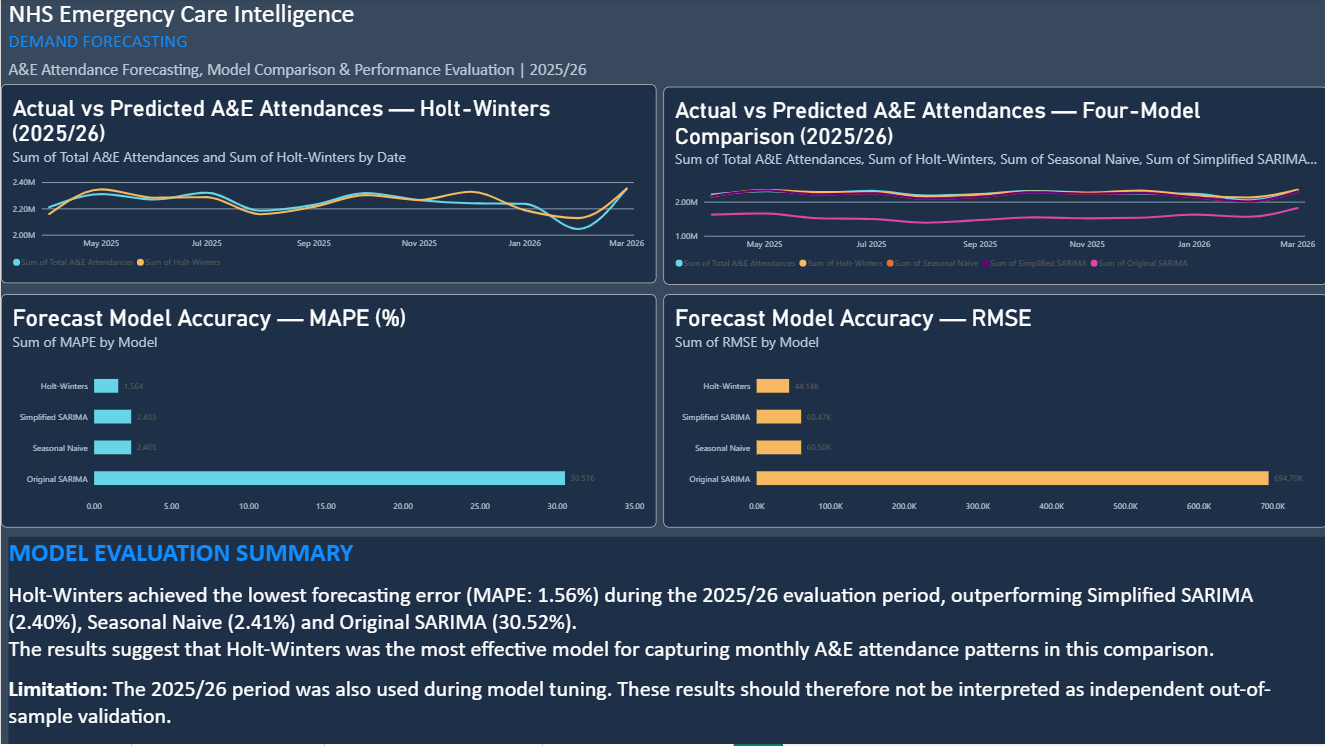

The page's visual inventory and layout, read from the dashboard file:
{"tool":"powerbi","page":{"name":"Demand Forecasting","canvas":[1920,1080],"ordinal":3},"visuals":[{"type":"textbox","box":[10.3,0,580.4,45.3],"z":0},{"type":"textbox","box":[10.3,45.3,489.9,43.2],"z":1},{"type":"textbox","box":[10.9,88.7,872.3,36.2],"z":2},{"type":"lineChart","title":"Actual vs Predicted A&E Attendances — Holt-Winters (2025/26)","fields":{"Category":["Fact_AE_Forecast_Comparison.Date"],"Y":["Sum(Fact_AE_Forecast_Comparison.Total A&E Attendances)","Sum(Fact_AE_Forecast_Comparison.Holt-Winters)"]},"box":[0,125.6,948.9,288.2],"z":3},{"type":"lineChart","title":"Actual vs Predicted A&E Attendances — Four-Model Comparison (2025/26)","fields":{"Category":["Fact_AE_Forecast_Comparison.Date"],"Y":["Sum(Fact_AE_Forecast_Comparison.Total A&E Attendances)","Sum(Fact_AE_Forecast_Comparison.Holt-Winters)","Sum(Fact_AE_Forecast_Comparison.Seasonal Naive)","Sum(Fact_AE_Forecast_Comparison.Simplified SARIMA)","Sum(Fact_AE_Forecast_Comparison.Original SARIMA)"]},"box":[959.2,127.6,961.2,286.1],"z":4},{"type":"clusteredBarChart","title":"Forecast Model Accuracy — MAPE (%)","fields":{"Category":["Fact_Forecast_Evaluation.Model"],"Y":["Sum(Fact_Forecast_Evaluation.MAPE)"]},"box":[0,428.1,948.9,337.6],"z":5},{"type":"clusteredBarChart","title":"Forecast Model Accuracy — RMSE","fields":{"Category":["Fact_Forecast_Evaluation.Model"],"Y":["Sum(Fact_Forecast_Evaluation.RMSE)"]},"box":[959.2,428.1,961.2,337.6],"z":6},{"type":"textbox","box":[10.3,780.1,1910.1,300.5],"z":7}]}

Visuals, with their boxes in screenshot pixels (x1, y1, x2, y2), scaled from the page's 1920x1080 canvas onto the 1325x746 screenshot:
textbox: bbox=(7, 0, 408, 31)
textbox: bbox=(7, 31, 345, 61)
textbox: bbox=(8, 61, 609, 86)
"Actual vs Predicted A&E Attendances — Holt-Winters (2025/26)" lineChart: bbox=(0, 87, 655, 286)
"Actual vs Predicted A&E Attendances — Four-Model Comparison (2025/26)" lineChart: bbox=(662, 88, 1324, 286)
"Forecast Model Accuracy — MAPE (%)" clusteredBarChart: bbox=(0, 296, 655, 529)
"Forecast Model Accuracy — RMSE" clusteredBarChart: bbox=(662, 296, 1324, 529)
textbox: bbox=(7, 539, 1324, 745)
